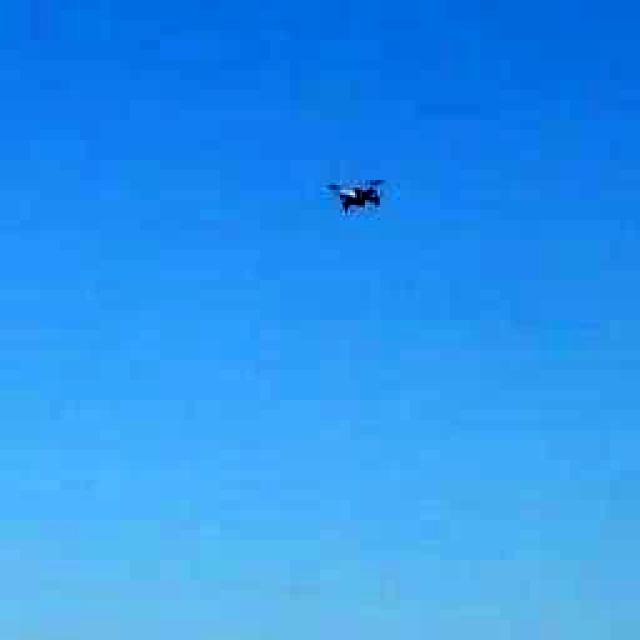bird: (306, 158, 406, 225)
